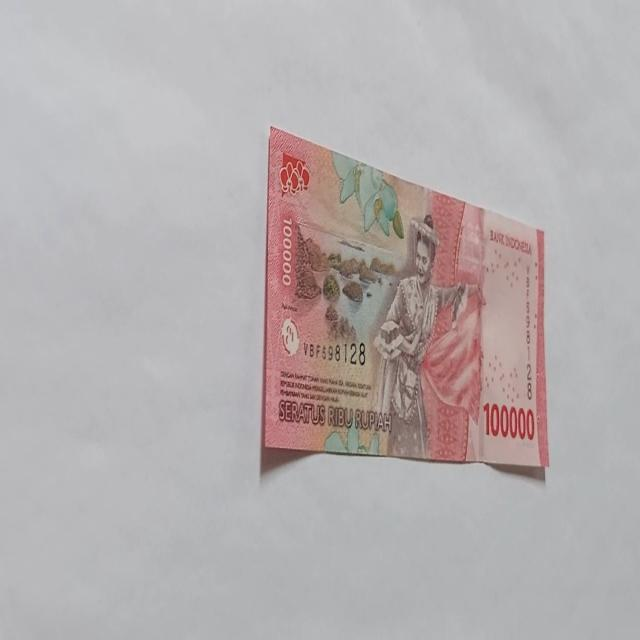seratus ribu rupiah: (261, 125, 549, 474), (370, 212, 482, 460)
